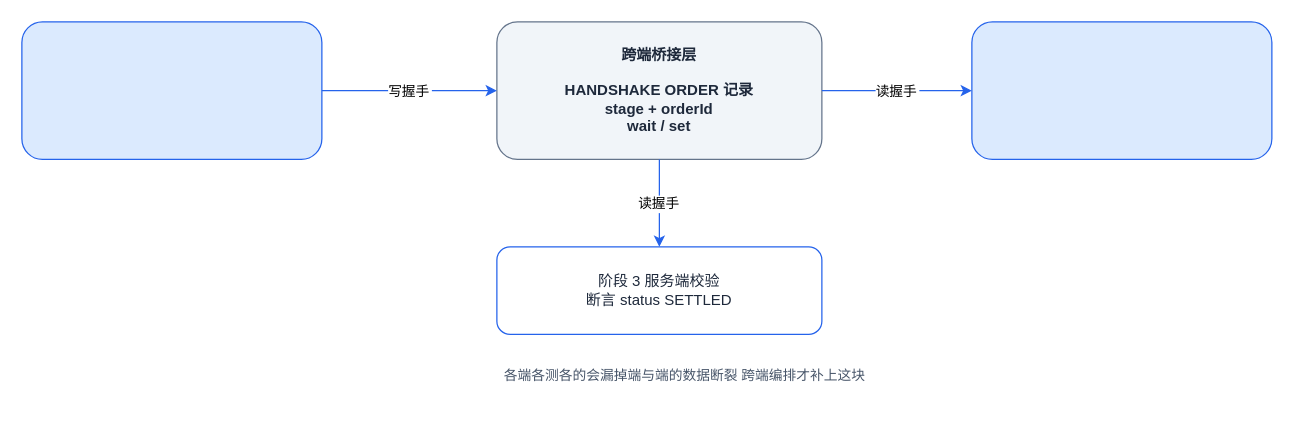
This 1294x425 diagram has some shape labels left out. Here are the shapes that lost their labels. From the top down, the box of each, then its label:
(21, 21, 322, 159): 阶段 1 小程序端 automator 下单产出 orderId bridge.set 写握手
(971, 21, 1272, 159): 阶段 2 运营后台 Playwright bridge.wait 查订单 断言运营端可见
